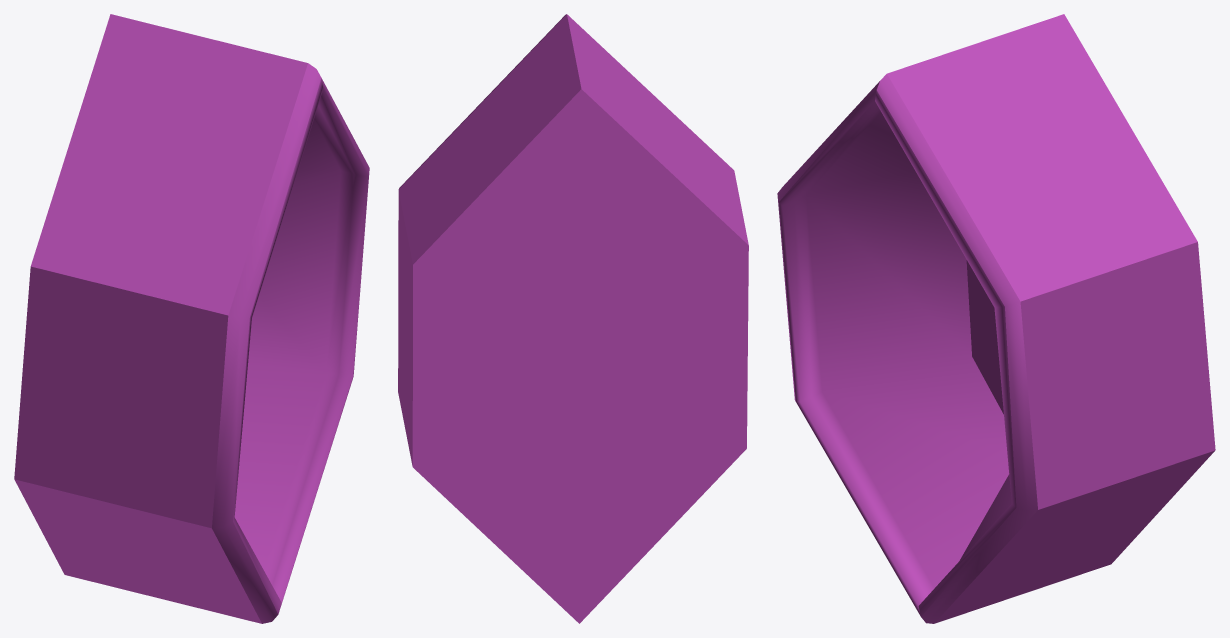
The model's file is BR3_8shapes_Hex_Classic_Metal.001 3.glb.
The picture shows the model from 3 angles, left to right: view 1: azimuth 30°, elevation 25°; view 2: azimuth 150°, elevation 25°; view 3: azimuth 270°, elevation 25°; orthographic projection. The views are drawn at different scales.
Parts seen in each view (by area): view 1: BR3_8shapes_Hex_Classic_Metal.001; view 2: BR3_8shapes_Hex_Classic_Metal.001; view 3: BR3_8shapes_Hex_Classic_Metal.001.
Part boxes in pixels (x1,y1,x2,y2): BR3_8shapes_Hex_Classic_Metal.001: (14, 14, 369, 623); BR3_8shapes_Hex_Classic_Metal.001: (398, 14, 748, 623); BR3_8shapes_Hex_Classic_Metal.001: (777, 14, 1215, 623).
Size of the model in its own units: 0.4932 by 0.7424 by 0.5179.
